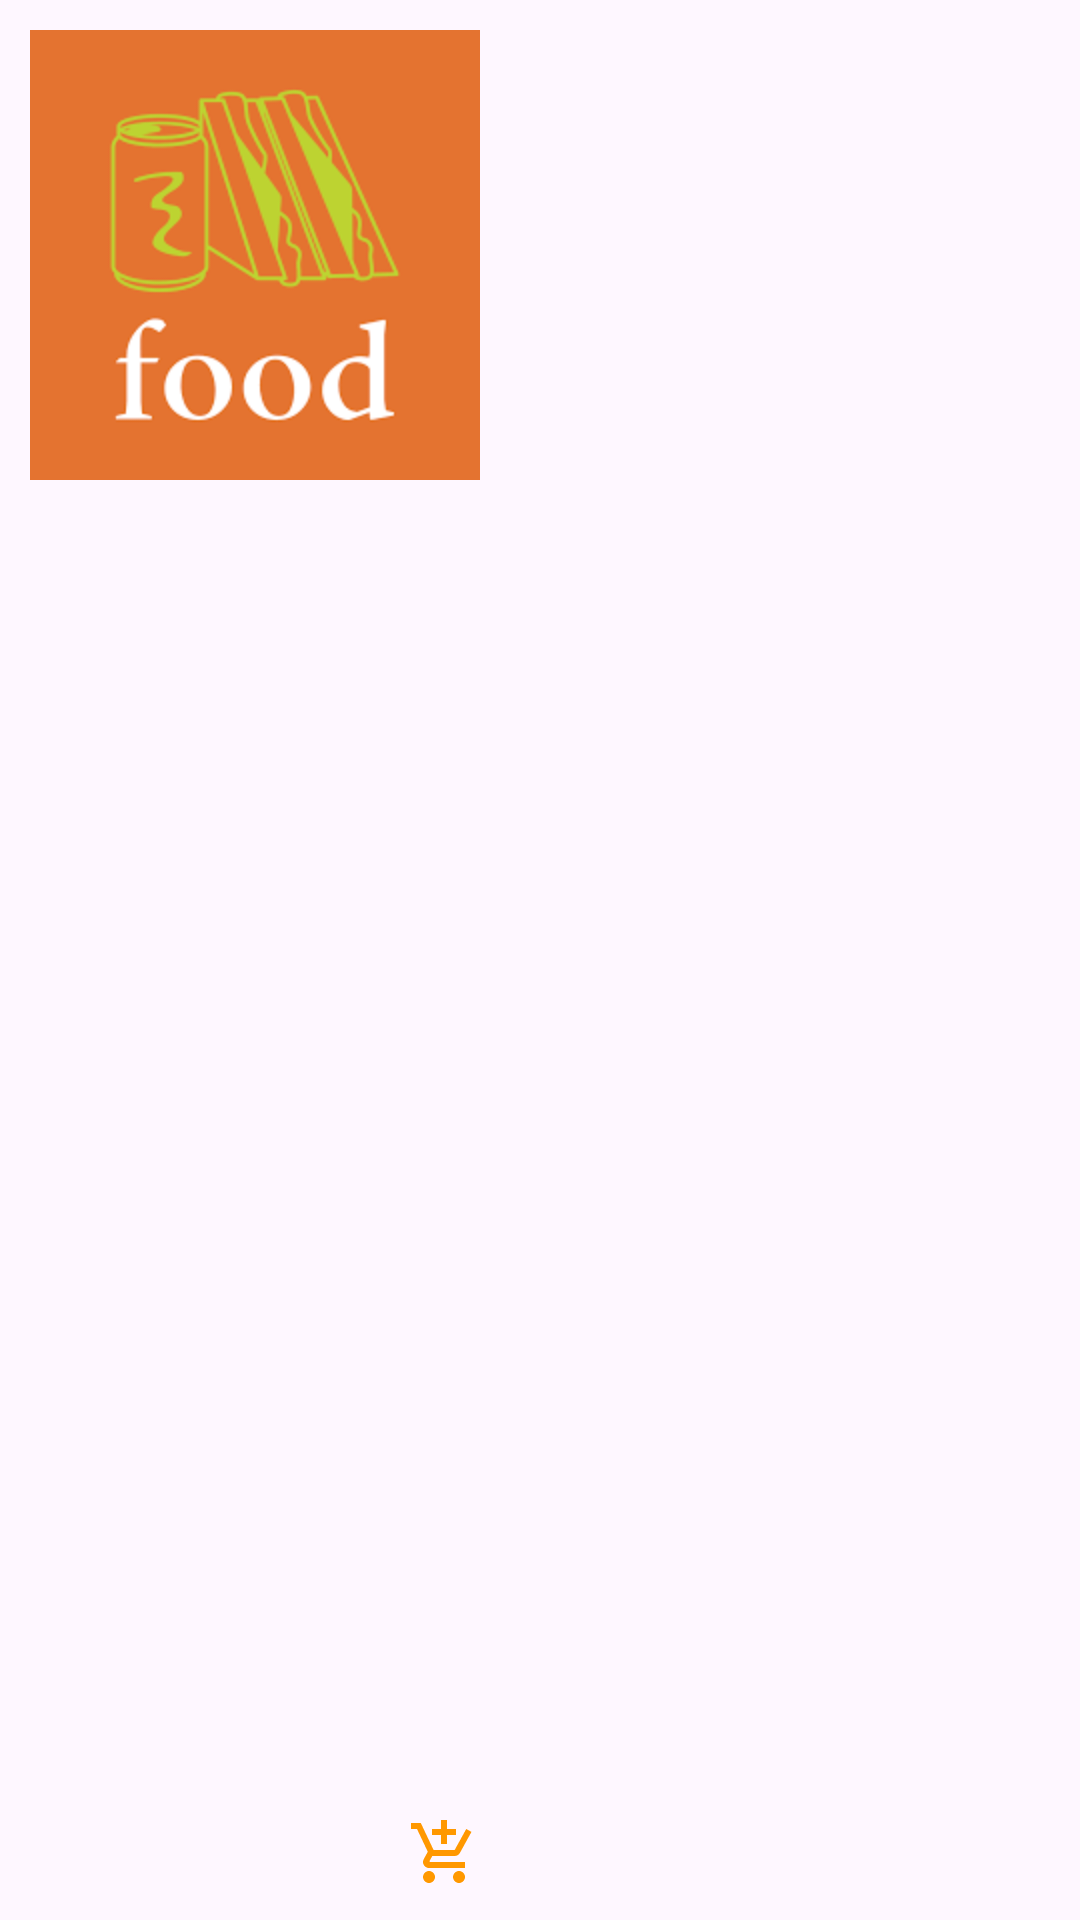

Named icons in this screenshot (1080 x 1920) and their bounding boxes, (x1, y1, x2, y2):
add to cart: (411, 1820, 472, 1883)
